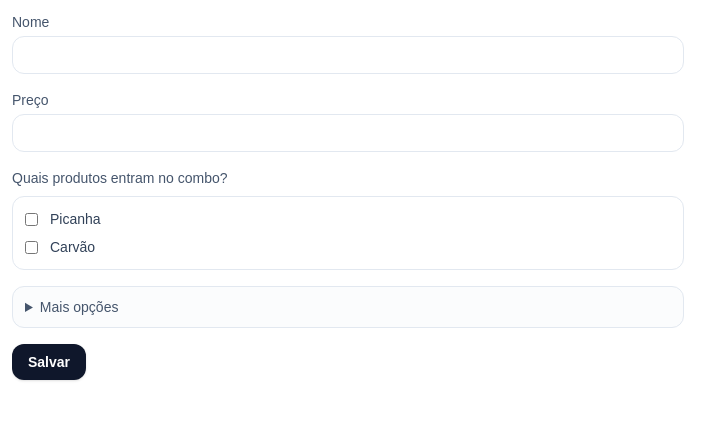
Scenario: ComboForm › exibe a mensagem de erro retornada pela action
In the field labelled "Nome": (348, 55) [12,36,684,74], type "Combo Teste"
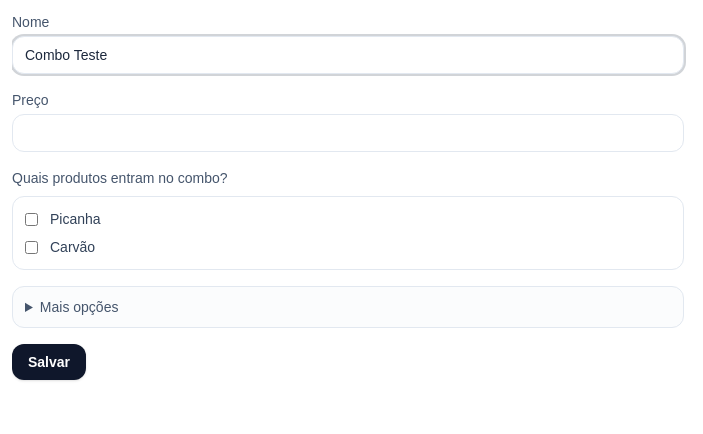
In the number field labelled "Preço": (348, 133) [12,114,684,152], type "50"
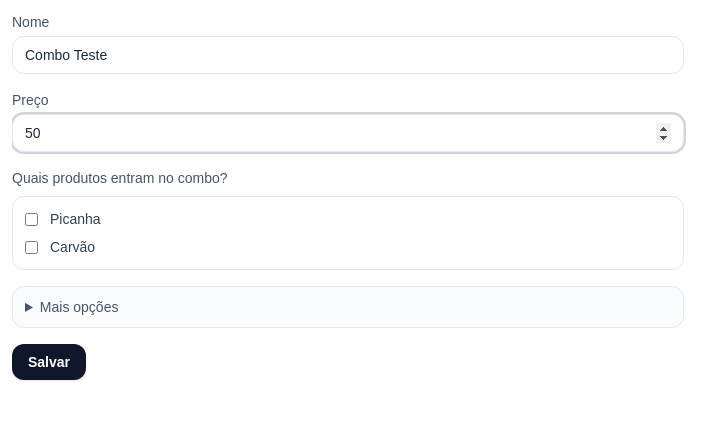
Click the button "Salvar": (49, 362) [12,344,86,380]
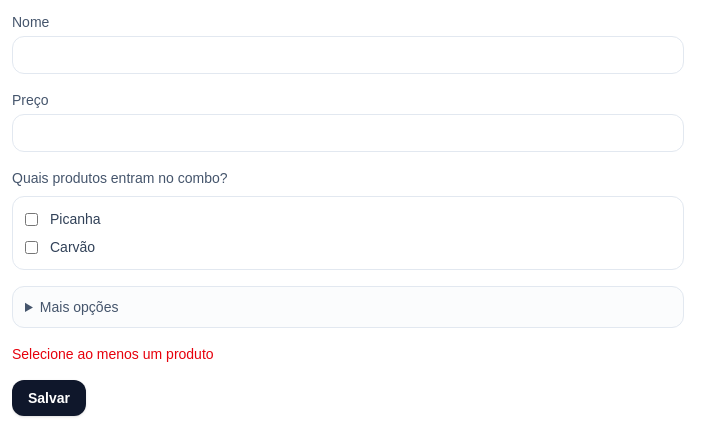
Check: the text "Selecione ao menos um produto" is shown, box [12,346,214,362]
